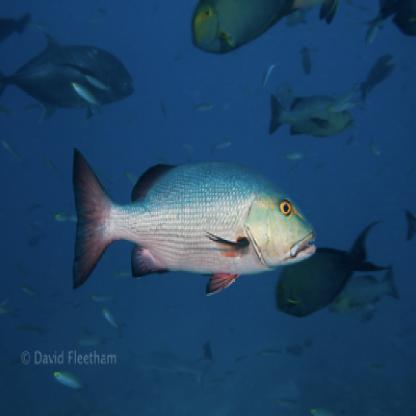Bio: (66, 136, 320, 302)
